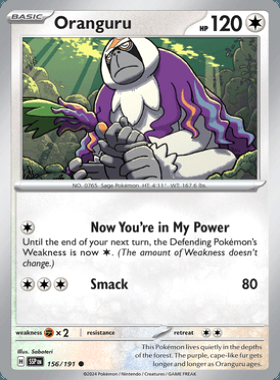Oranguru: (0, 0, 280, 380)
